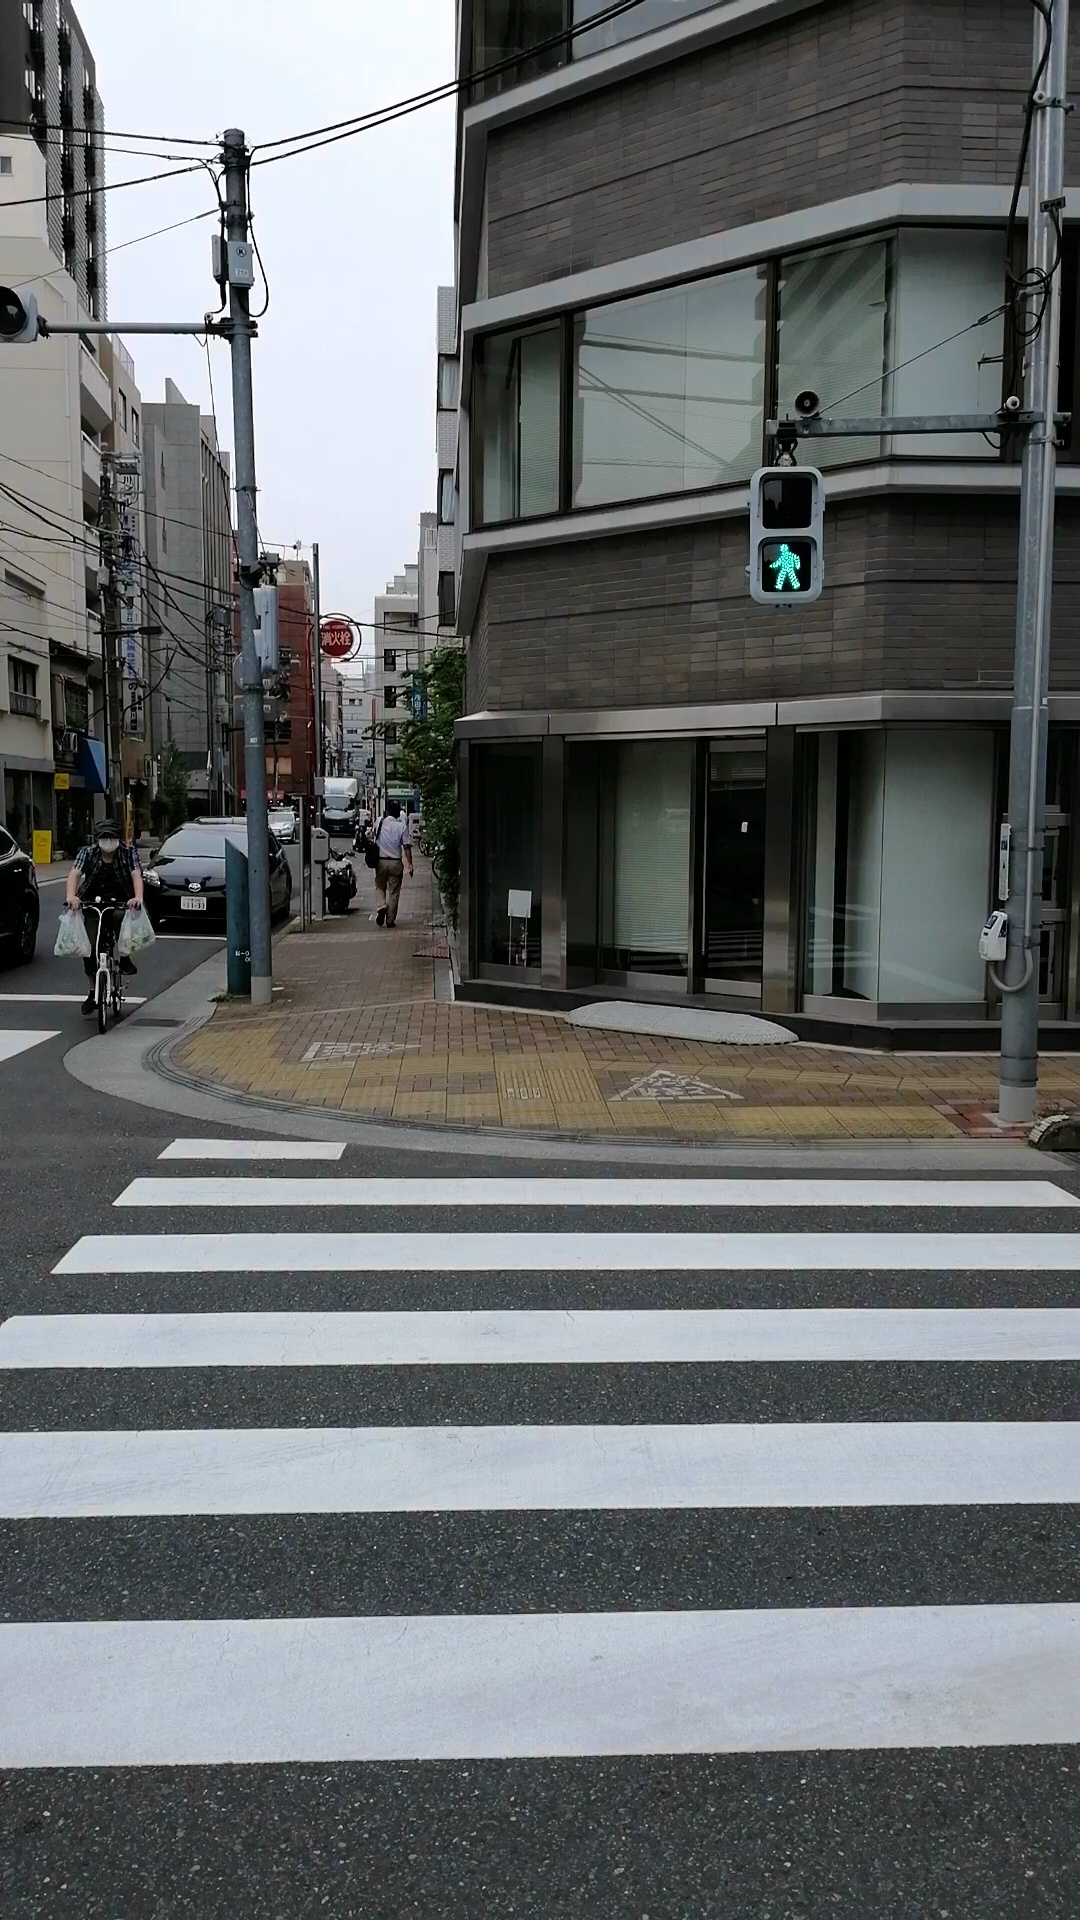green: (749, 465, 824, 603)
